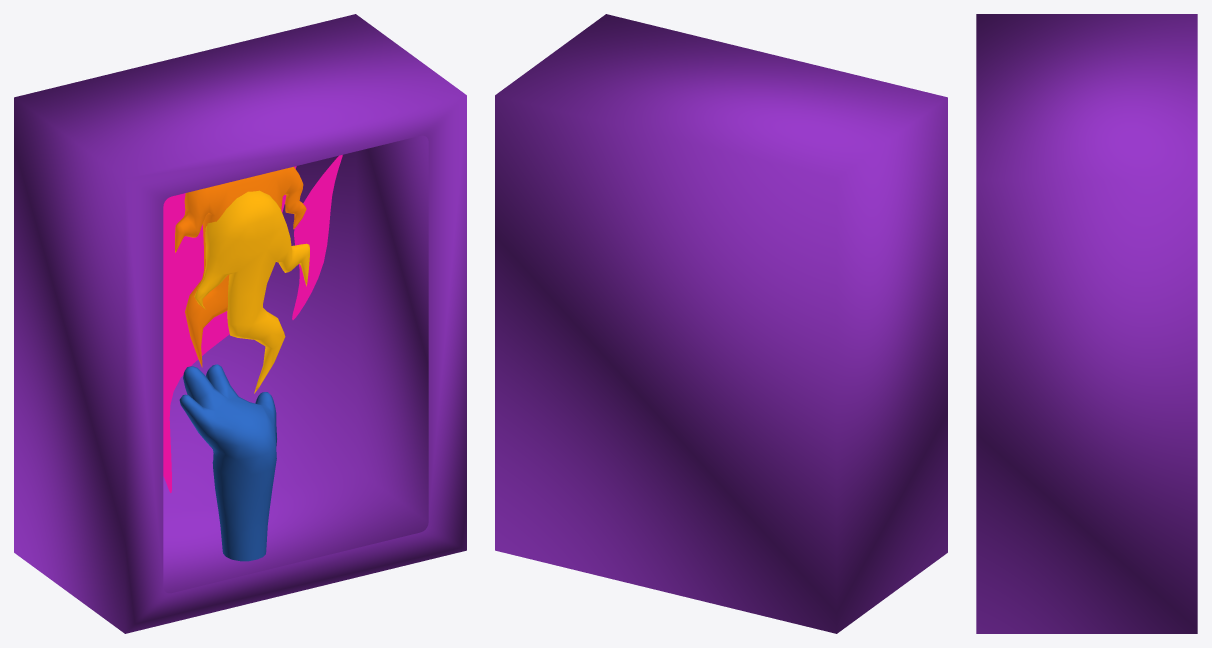
Rendered from 1_Fireball.gltf.
3 views of the same model, side by side, from view 1: azimuth 30°, elevation 25°; view 2: azimuth 150°, elevation 25°; view 3: azimuth 270°, elevation 25° (orthographic).
Visible parts, largest first — view 1: 1_Fireball_bg, 1_Fireball; view 2: 1_Fireball_bg; view 3: 1_Fireball_bg.
Part boxes in pixels (x1,y1,x2,y2): 1_Fireball_bg: (14, 14, 466, 633); 1_Fireball: (163, 155, 342, 561); 1_Fireball_bg: (495, 14, 947, 633); 1_Fireball_bg: (976, 14, 1197, 633).
Bounding box in the file's own units: 2.76 × 3.51 × 1.55.
Materials: 2 (2 with a texture image).
